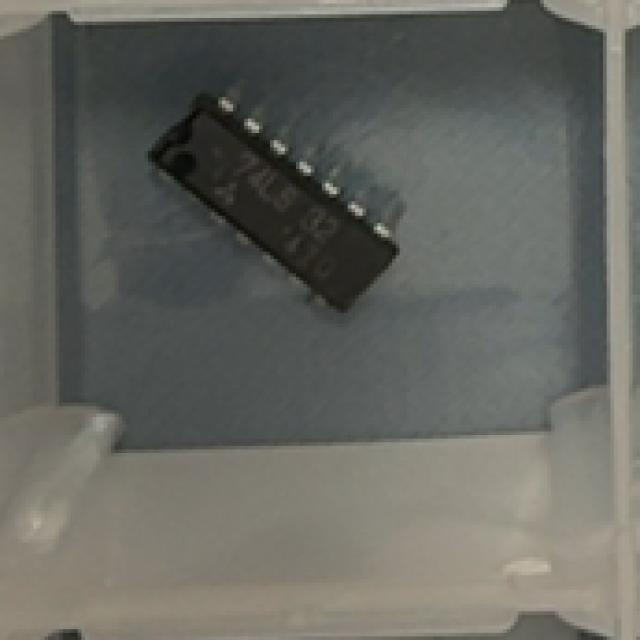IC: (144, 74, 406, 312)
